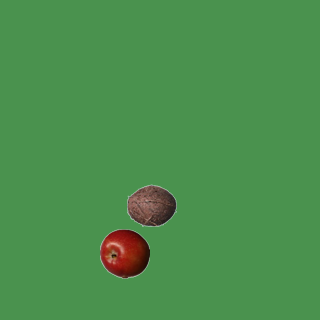Apple Braeburn: (99, 228, 149, 278)
Cocos: (126, 180, 176, 230)
